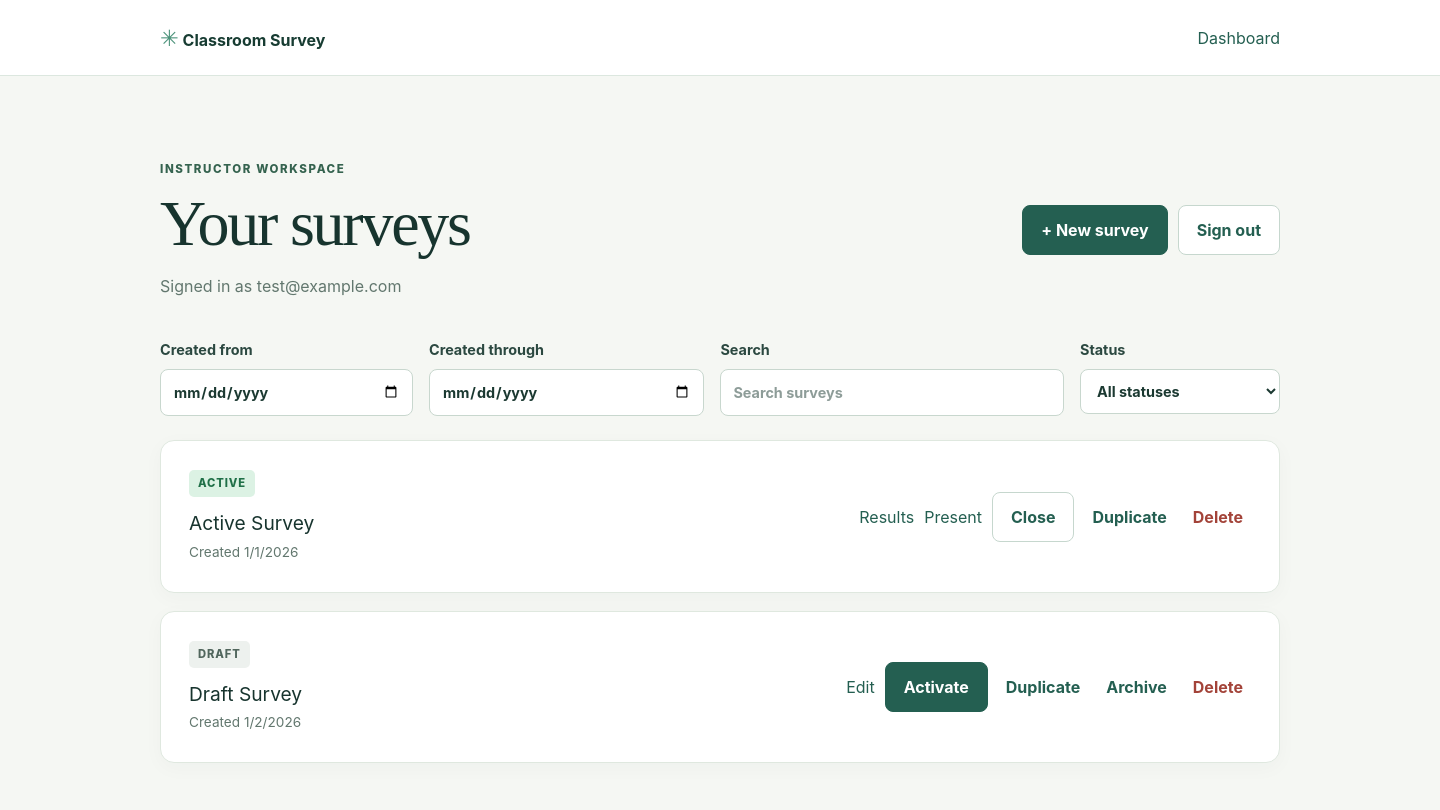
Test: instructor dashboard › filters surveys by title and status
The width and height of the screenshot is (1440, 810).
Expected: the heading "Active Survey" is shown, left=189, top=509, right=314, bottom=538
Type "draft" into the field labelled "Search".
click(892, 393); type("draft")  # box left=720, top=369, right=1064, bottom=416
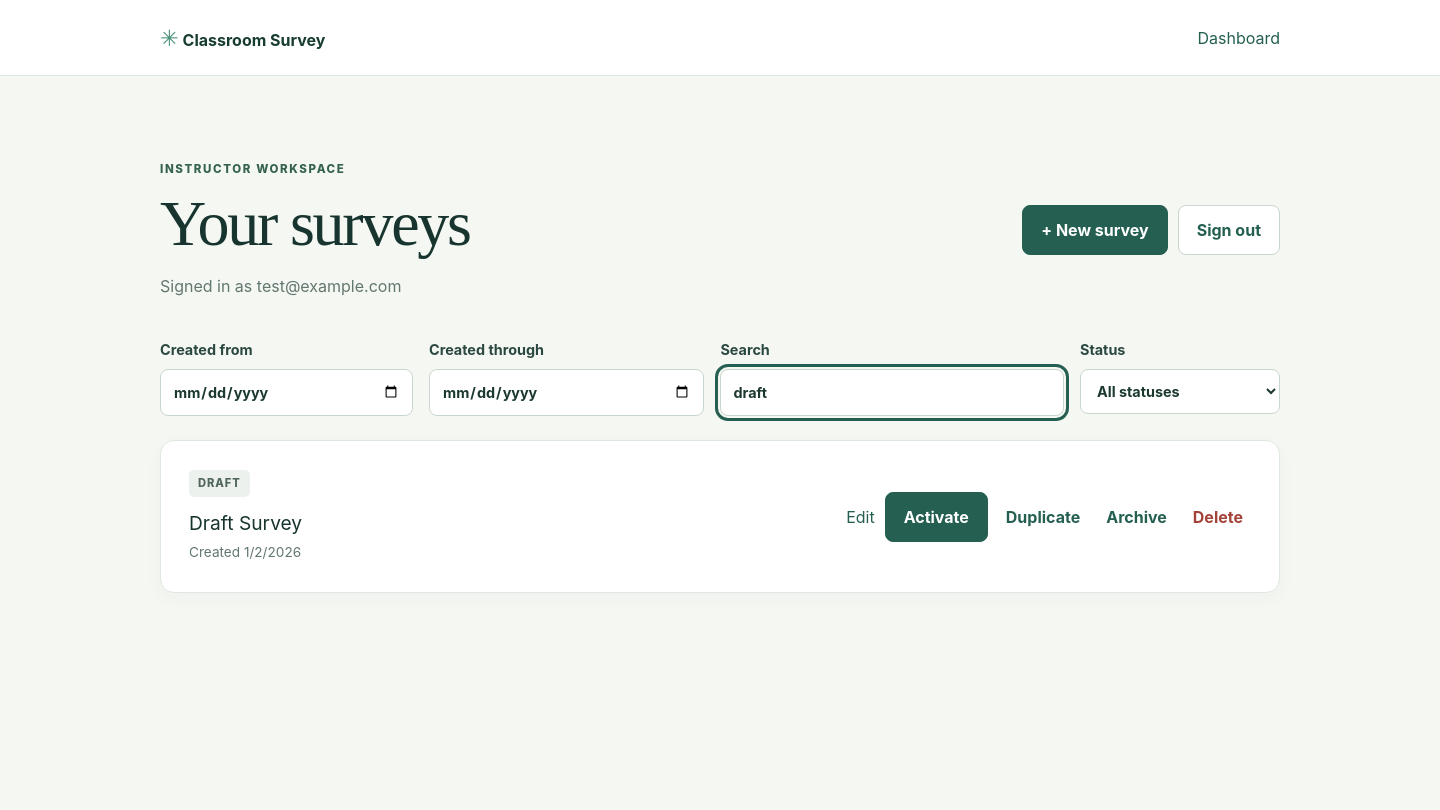
Expected: the heading "Draft Survey" is shown, left=189, top=509, right=302, bottom=538
Result: the heading "Active Survey" is gone
Select "active" in the dropdown labelled "Status" at (1180,391), box left=1080, top=369, right=1280, bottom=414
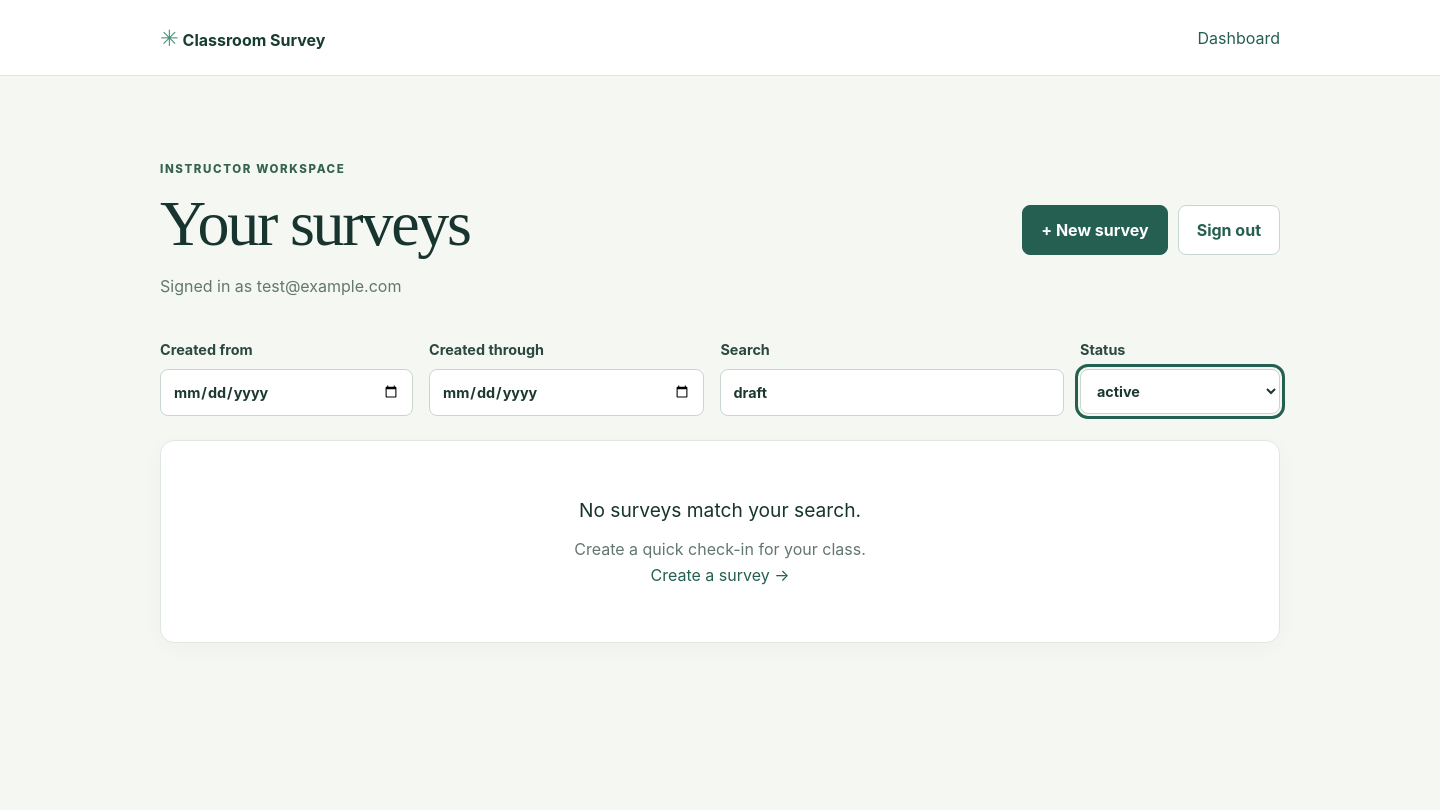
Result: the heading "No surveys match your search." is shown at left=579, top=498, right=861, bottom=522
